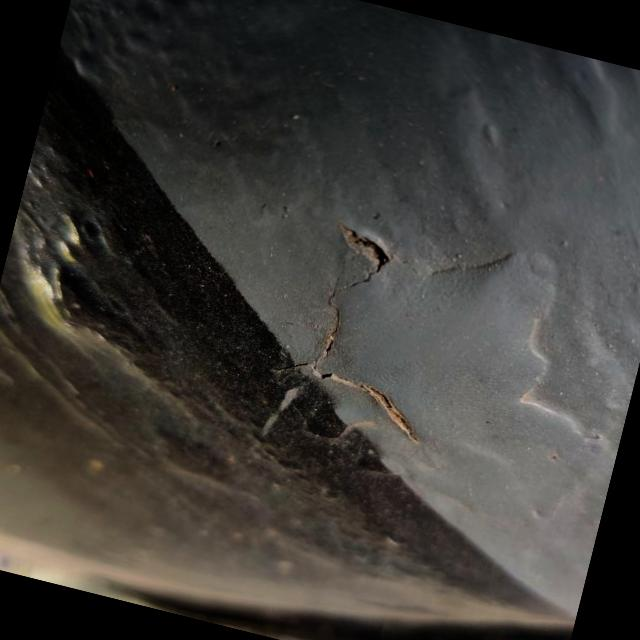crack: (262, 202, 478, 449)
